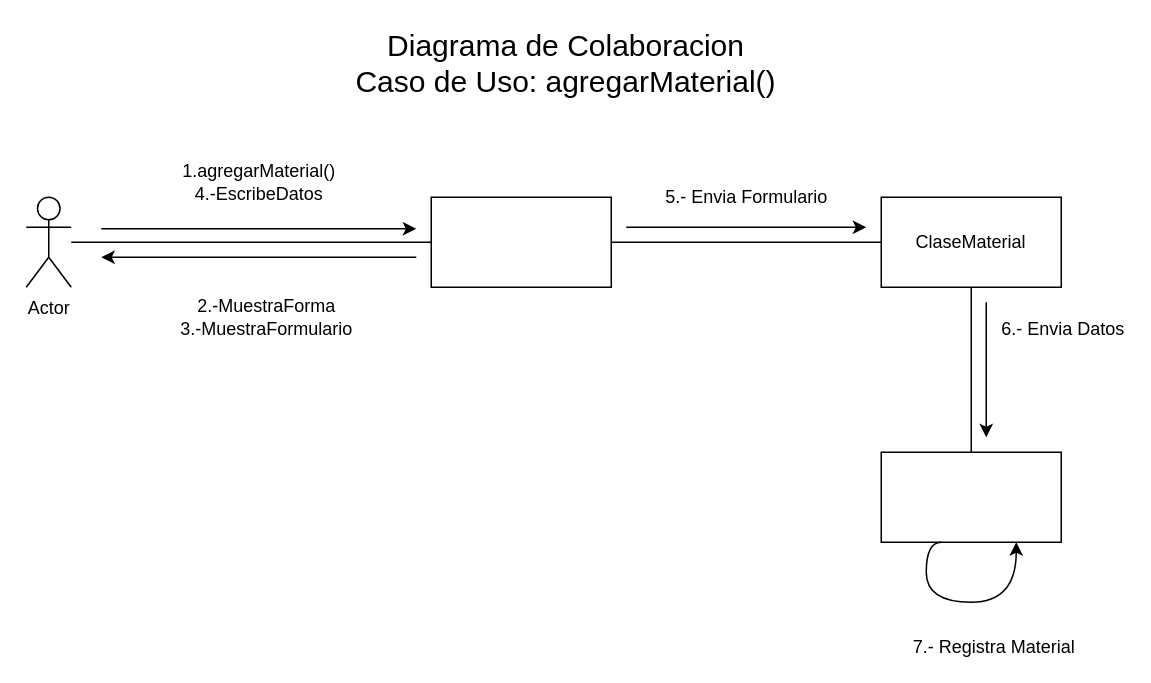
The diagram is 1151 pixels wide and 683 high, and some of its shapes have lost their labels. Here are the shapes that lost their labels. From the top down, the centre of each, then its label:
At (x=520, y=241): "AgregarMaterial Form()".
At (x=970, y=496): "BaseDatos".
